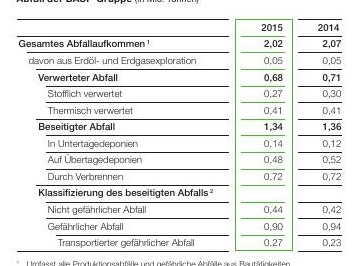table: (0, 0, 358, 266)
